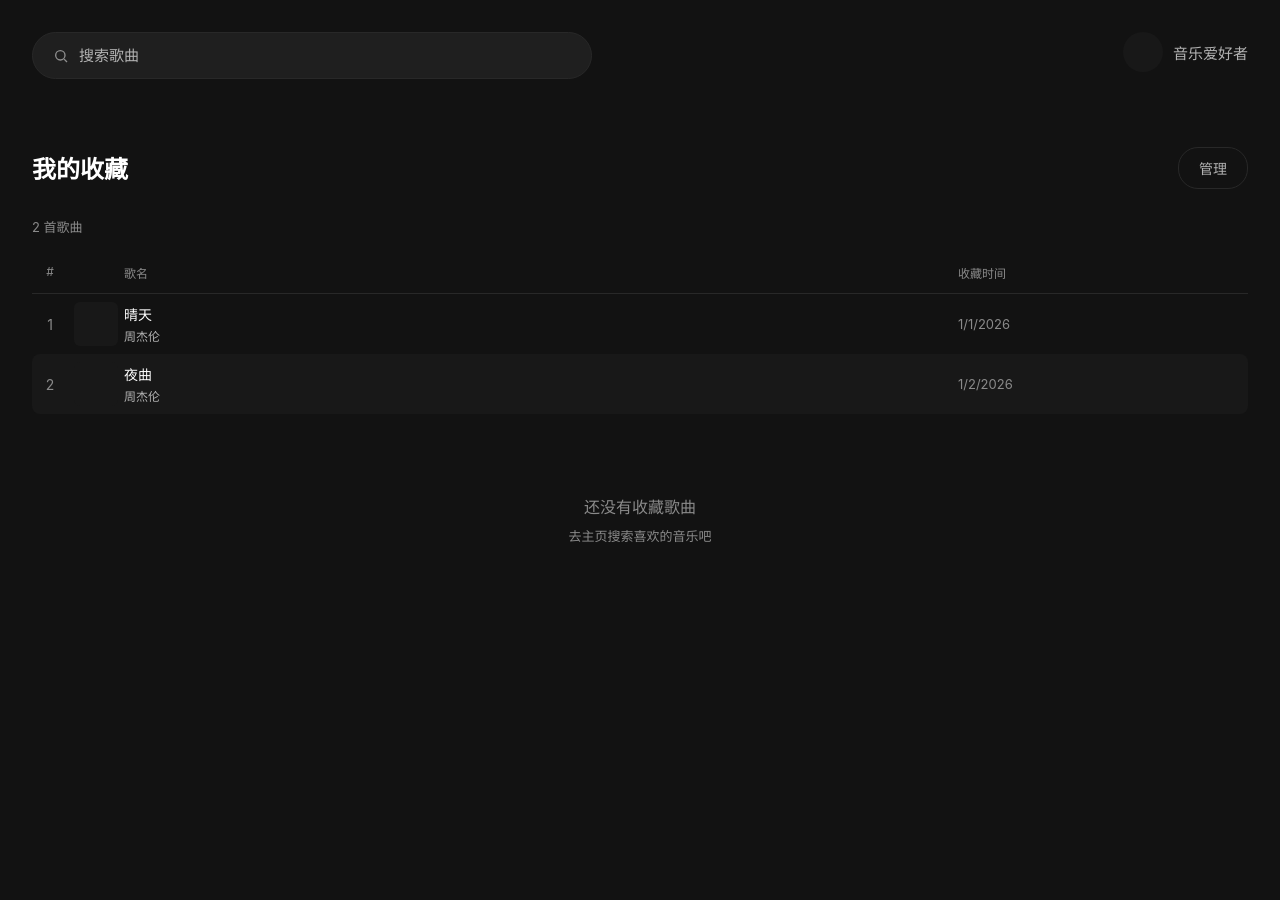
Test: LikesView 批量取消收藏 › 失败时显示错误且管理模式/选择被重置、可再次操作
Click the button with class "btn-manage".
click(1213, 168)  # box [1178, 147, 1248, 189]
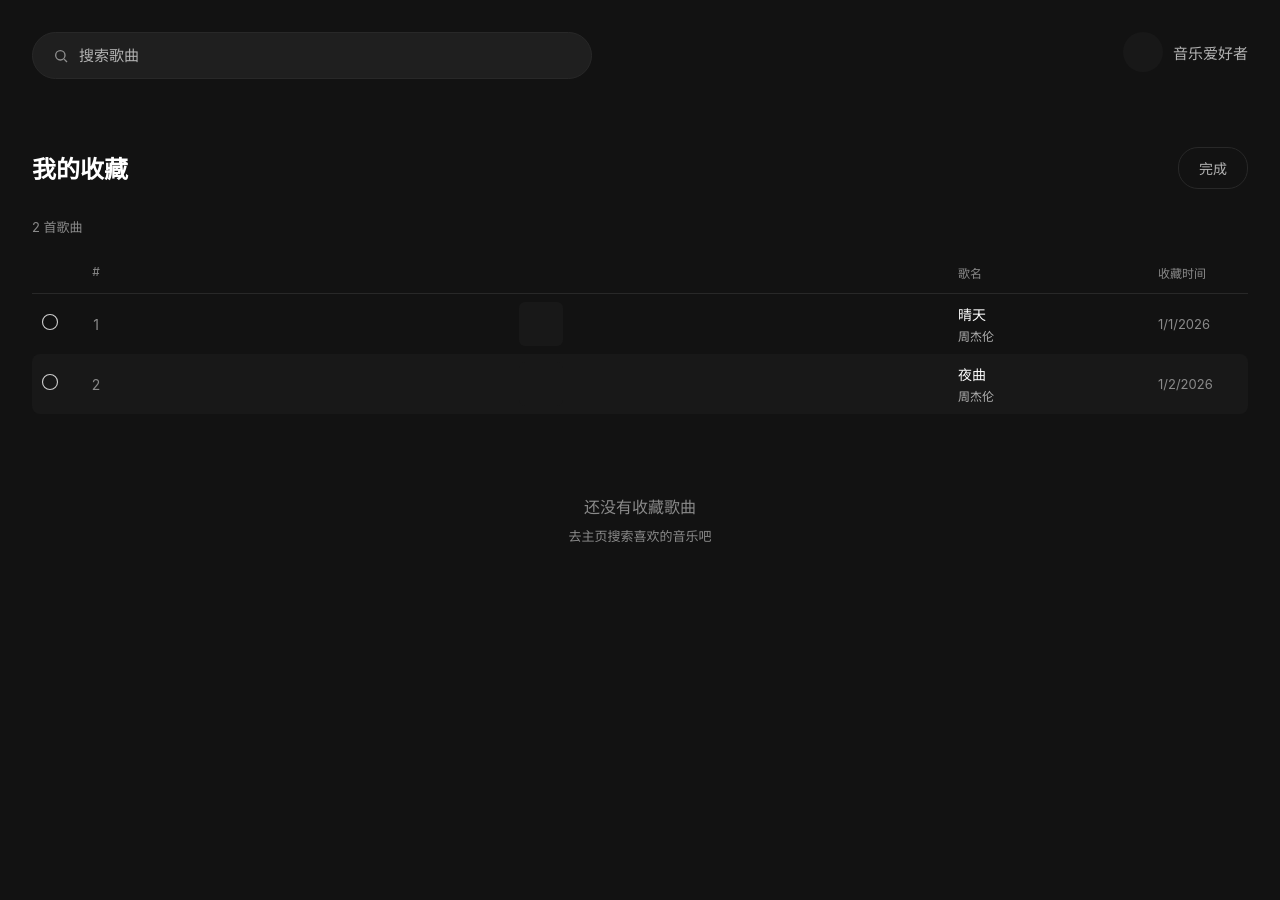
Click the button with class "table-row" showing "1 晴天 周杰伦 1/1/2026".
click(541, 324)  # box [32, 294, 1248, 354]
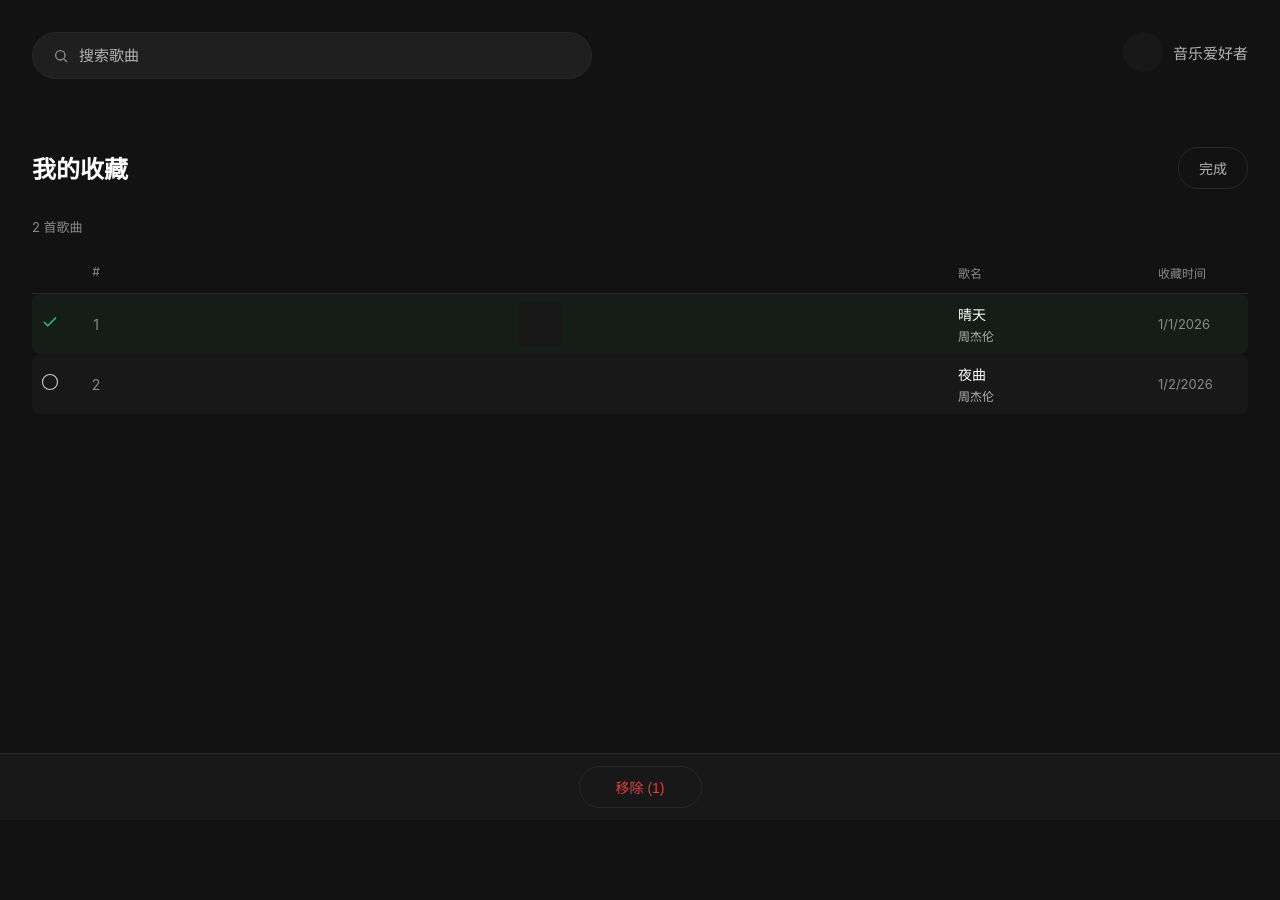
Click the button with class "batch-btn".
click(640, 787)  # box [578, 766, 702, 808]
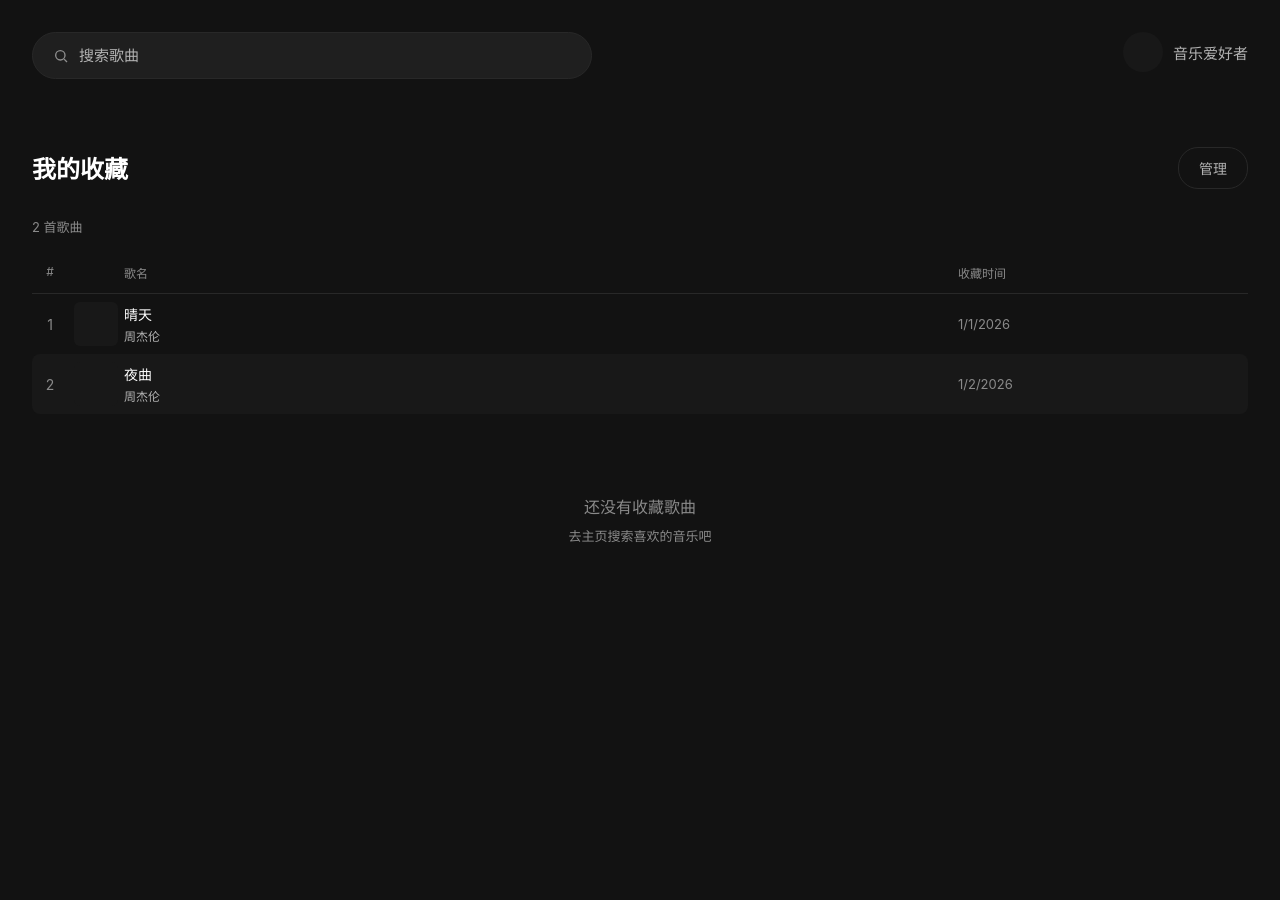
Check: the button with class "btn-manage" reads "管理", box [1178, 147, 1248, 189]
